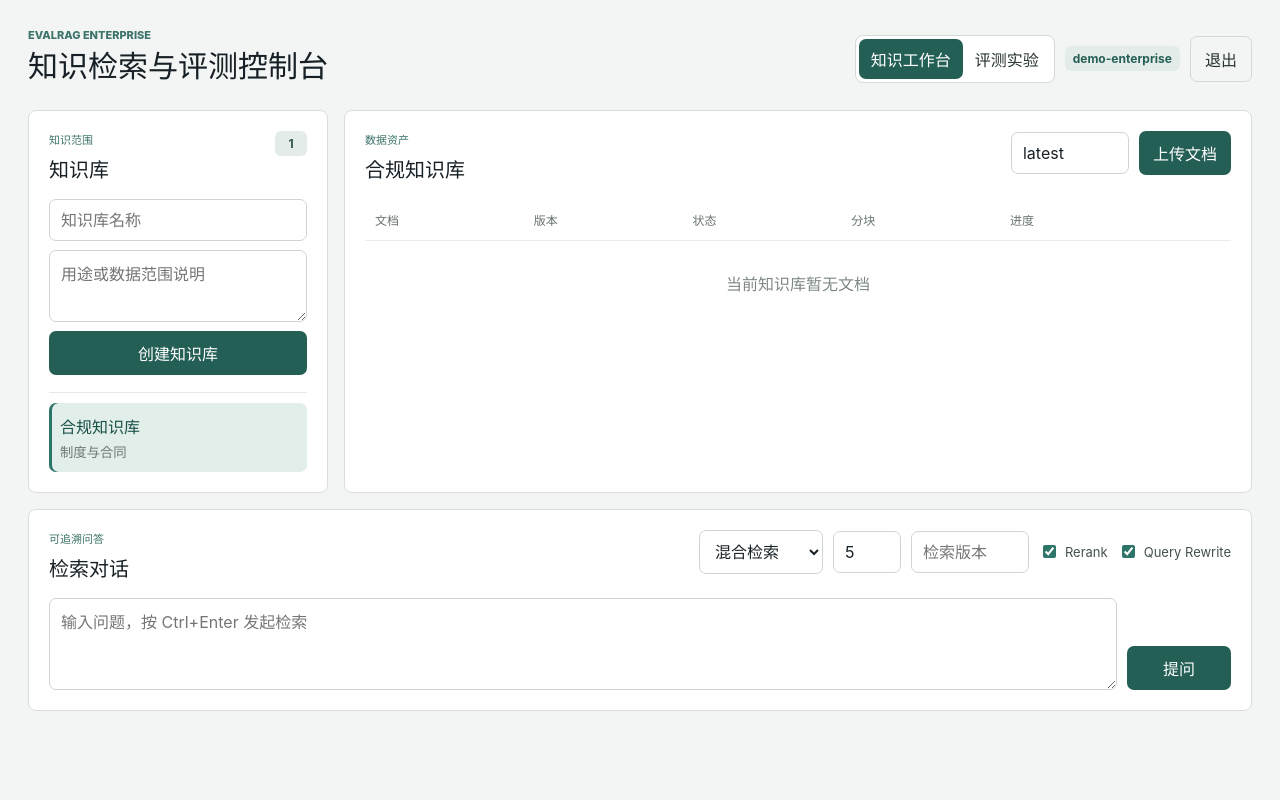
Scenario: App shell › shows the message of a terminal SSE error frame
In the text box with placeholder "输入问题，按 Ctrl+Enter 发起检索": (583, 644) [49,598,1117,690], type "注册资本是多少？"
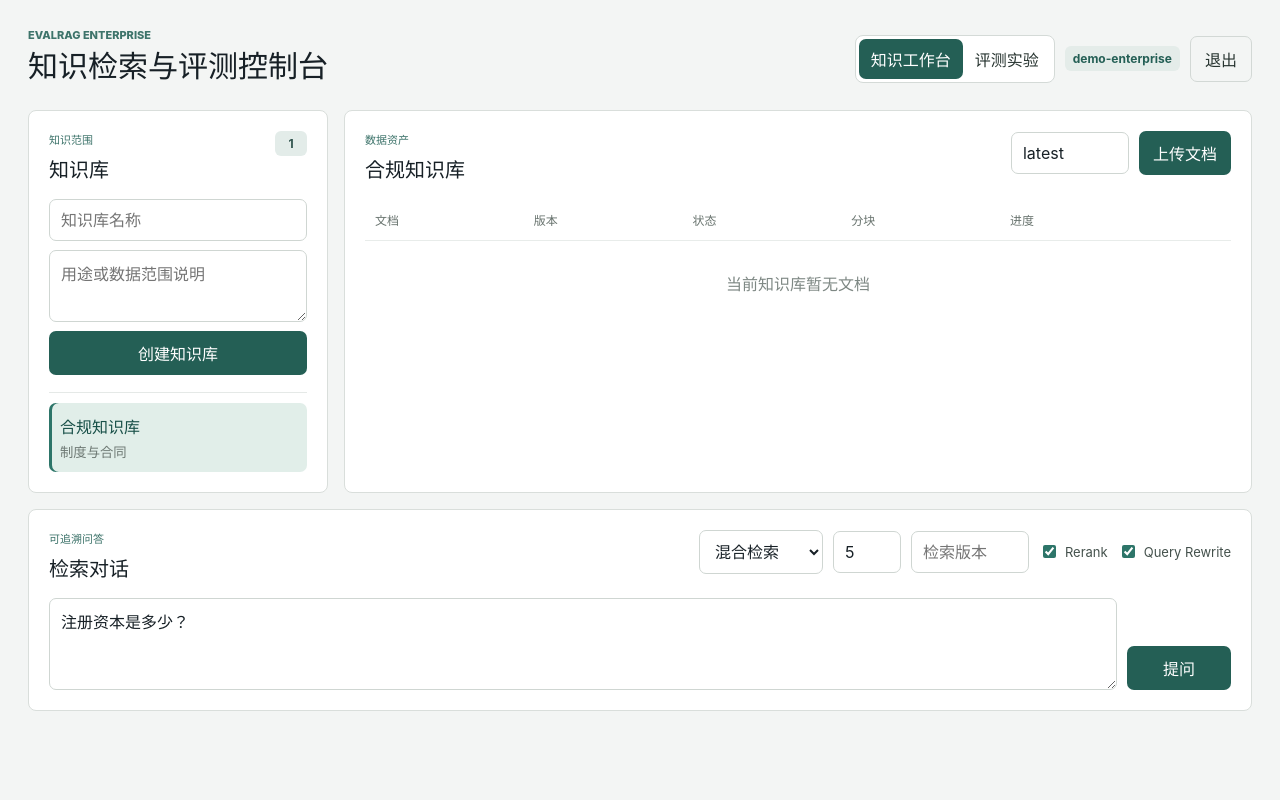
Click the button with class "ask-button": (1179, 668) [1127,646,1231,690]
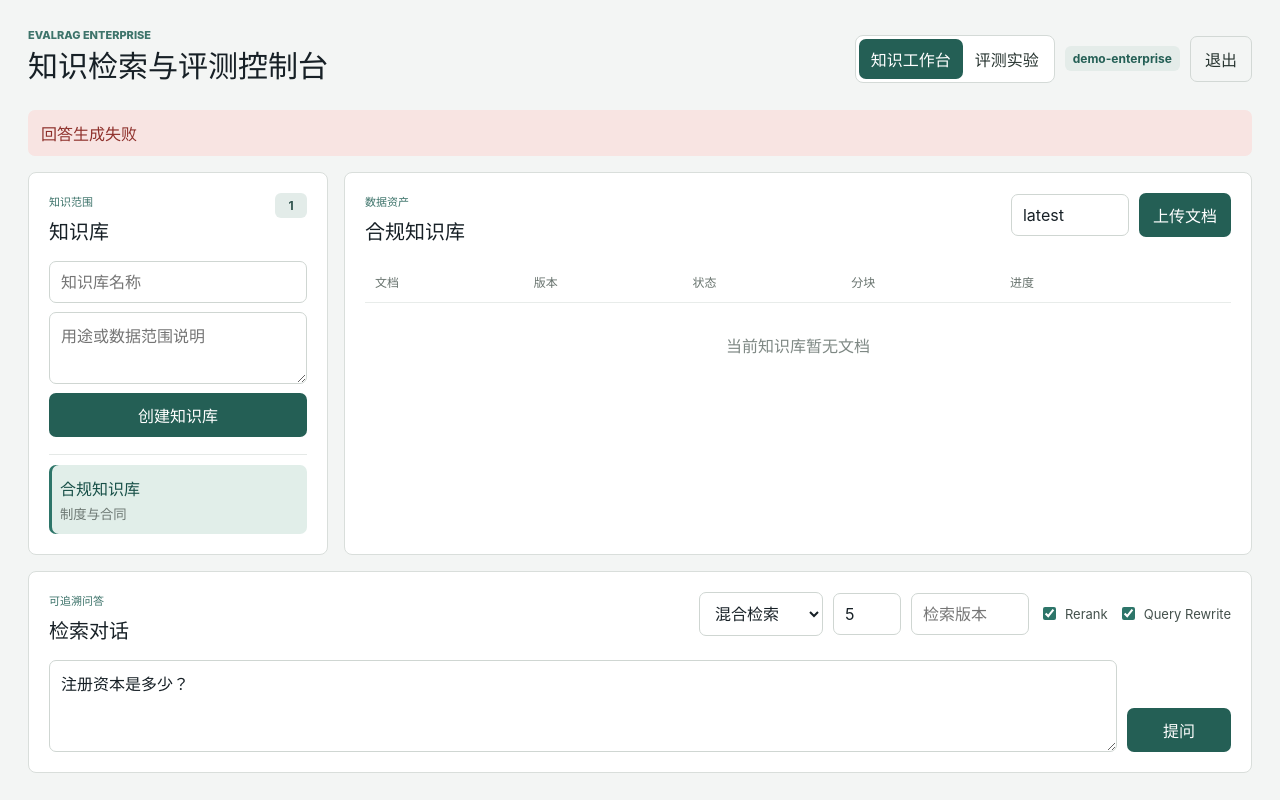
Check: the text with class "error" reads "回答生成失败", box [41,124,137,144]
